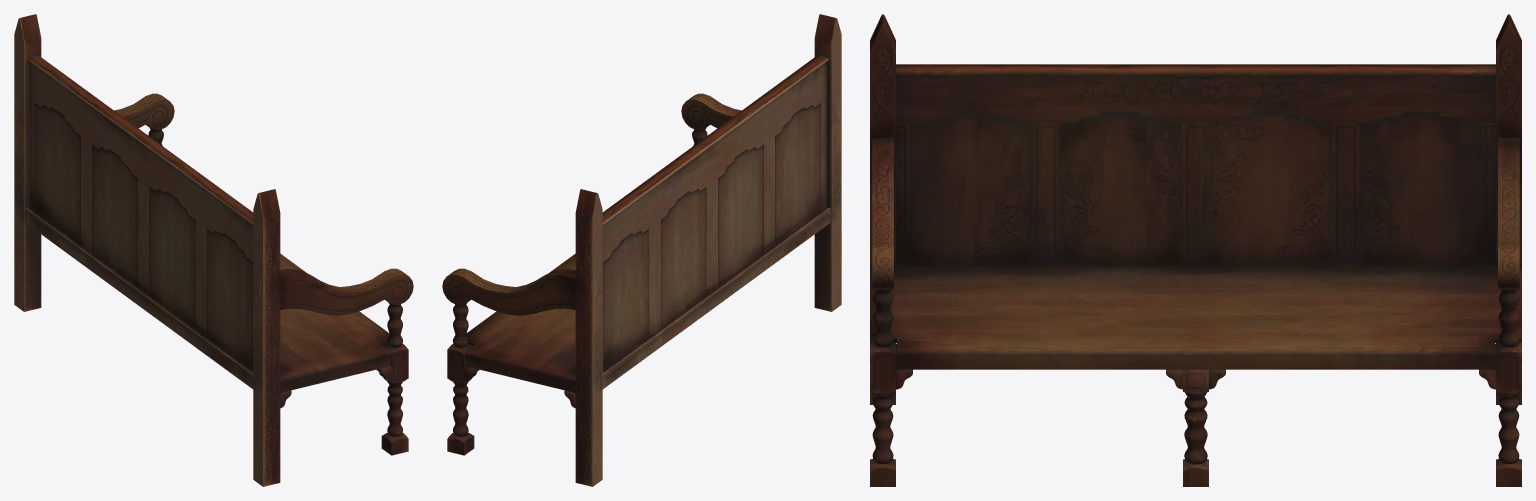
The model's file is bench_church_sololopenko.glb.
3 renders of one model, left to right at view 1: azimuth 30°, elevation 25°; view 2: azimuth 150°, elevation 25°; view 3: azimuth 270°, elevation 25°, orthographic. The views are drawn at different scales.
Parts seen in each view (by area): view 1: SM_bench_M_bench_0; view 2: SM_bench_M_bench_0; view 3: SM_bench_M_bench_0.
Part boxes in pixels (box(x1,y1,x2,y2)): SM_bench_M_bench_0: box(14, 14, 413, 486); SM_bench_M_bench_0: box(442, 14, 841, 486); SM_bench_M_bench_0: box(870, 14, 1521, 486).
Bounding box in the file's own units: 0.7297 × 1.34 × 2.08.
1 material, 1 textured.
